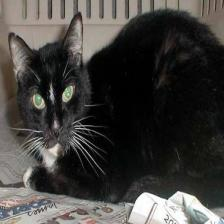cat: (8, 11, 96, 161)
